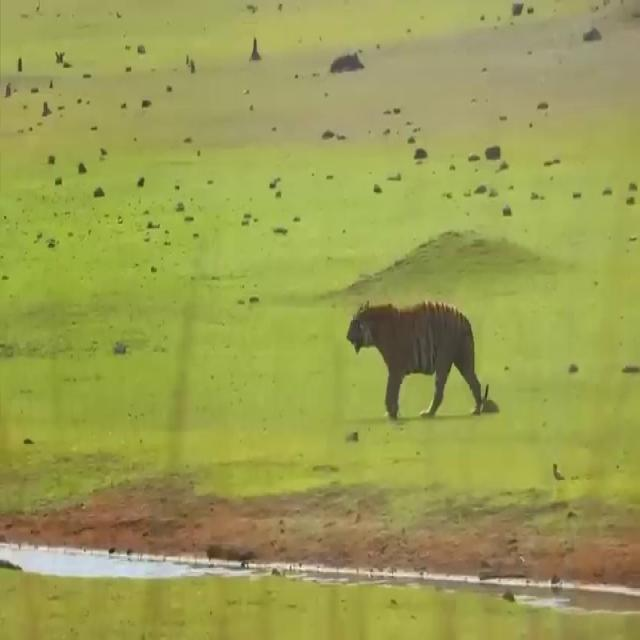tiger: (346, 300, 484, 420)
